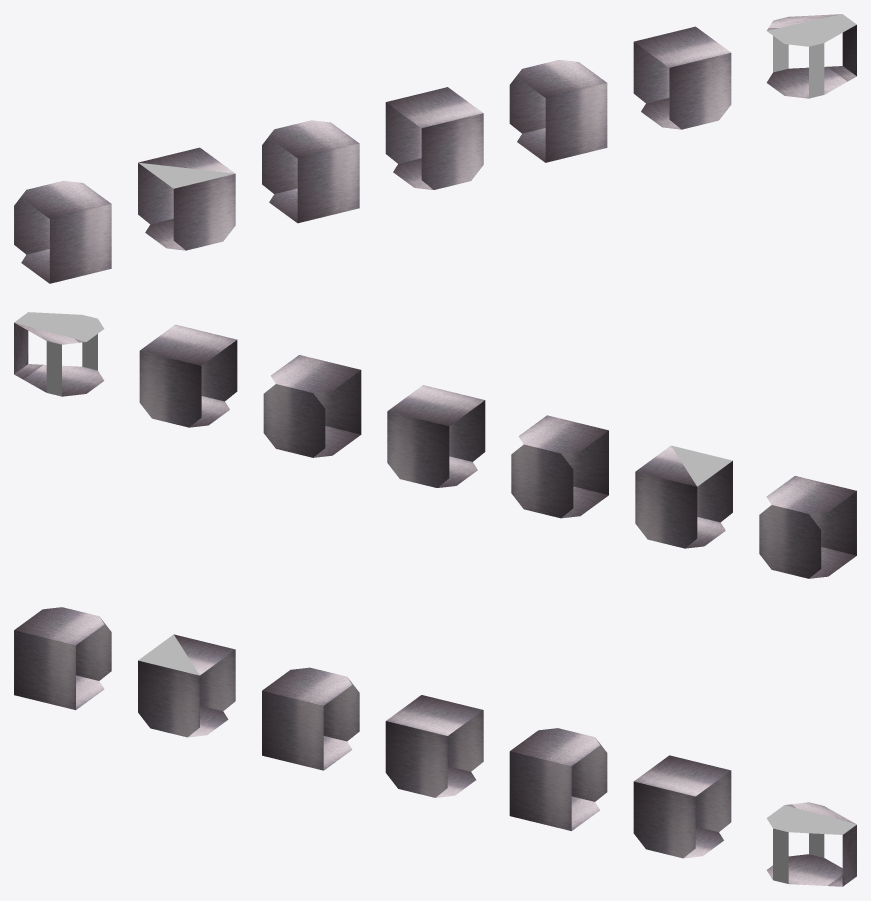
File: serpiente.obj
3 views of the same model, one above another, from view 1: azimuth 30°, elevation 25°; view 2: azimuth 150°, elevation 25°; view 3: azimuth 330°, elevation 25° (orthographic).
Bounding box in the file's own units: 13.2 × 1 × 1.
